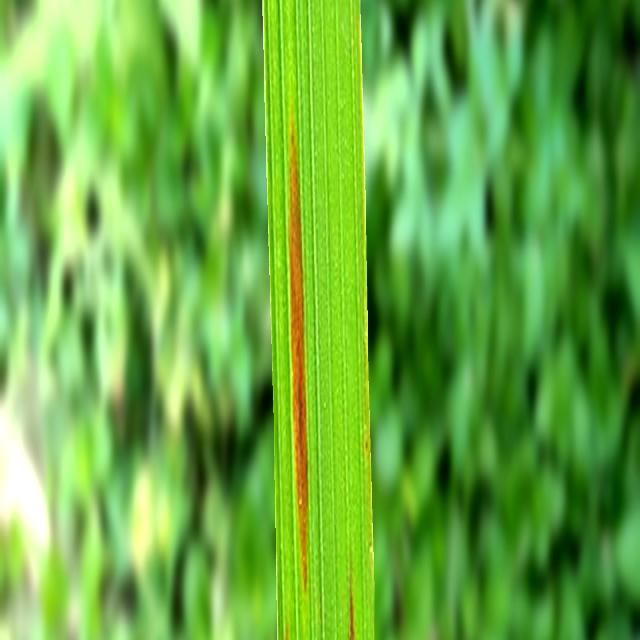NBS: (289, 122, 308, 586), (349, 581, 355, 640), (285, 632, 289, 640)
